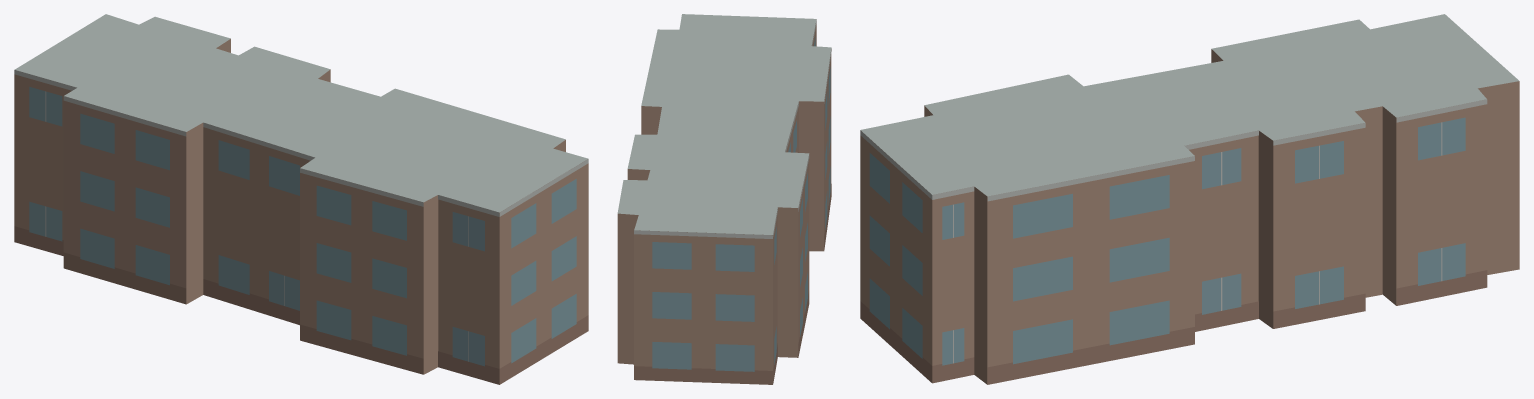
Rendered from survey-upis-32492063.glb.
The picture shows the model from 3 angles, left to right: view 1: azimuth 30°, elevation 25°; view 2: azimuth 150°, elevation 25°; view 3: azimuth 270°, elevation 25°; orthographic projection. The views are drawn at different scales.
Parts seen in each view (by area): view 1: survey-upis-32492063.tmp; view 2: survey-upis-32492063.tmp; view 3: survey-upis-32492063.tmp.
Part boxes in pixels (box(x1,y1,x2,y2)): survey-upis-32492063.tmp: box(14, 14, 588, 384); survey-upis-32492063.tmp: box(617, 14, 831, 384); survey-upis-32492063.tmp: box(860, 14, 1519, 384).
Size of the model in its own units: 19.02 by 9.15 by 29.04.
